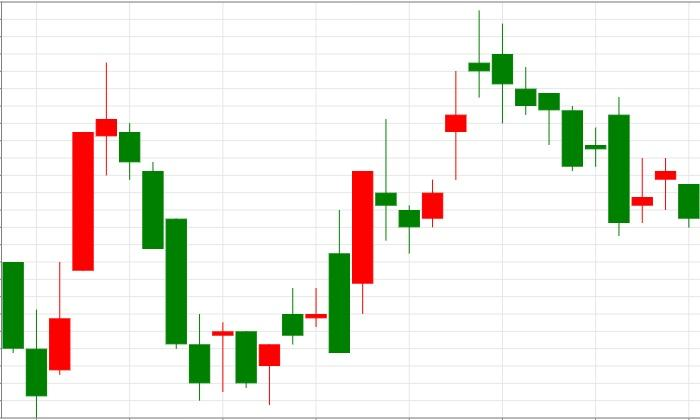hammer_rise: (119, 123, 281, 406)
